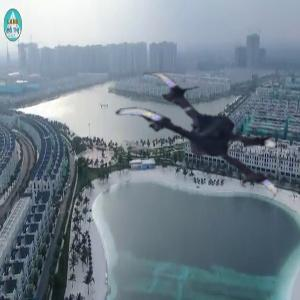drone: (109, 60, 287, 238)
